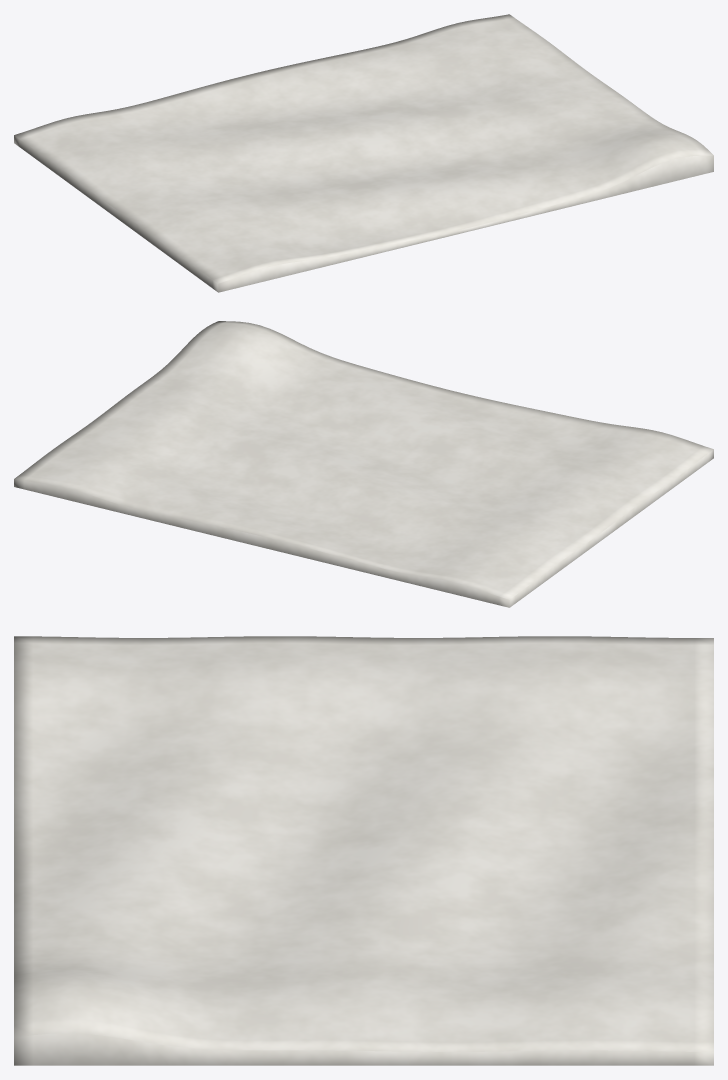
The model's file is PRP_Blanket_FlatTrap.fbx.
The picture shows the model from 3 angles, top to bottom: view 1: azimuth 30°, elevation 25°; view 2: azimuth 150°, elevation 25°; view 3: azimuth 270°, elevation 25°; orthographic projection. The views are drawn at different scales.
Visible parts, largest first — view 1: PRP_Blanket_FlatTrap; view 2: PRP_Blanket_FlatTrap; view 3: PRP_Blanket_FlatTrap.
Boxes of the visible parts, x1,y1,x2,y2 form: PRP_Blanket_FlatTrap: [14, 14, 713, 292]; PRP_Blanket_FlatTrap: [14, 321, 713, 607]; PRP_Blanket_FlatTrap: [14, 636, 713, 1065].
Size of the model in its own units: 140 by 7.08 by 100.
